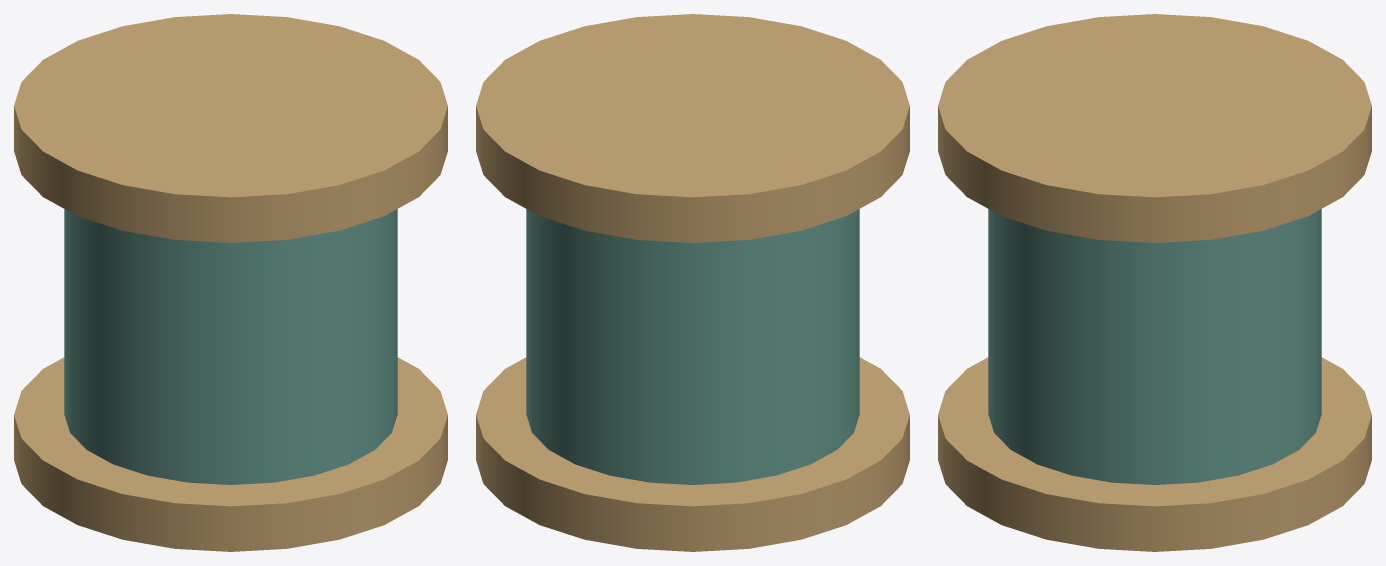
File: practice_spool.glb
3 views of the same model, side by side, from view 1: azimuth 30°, elevation 25°; view 2: azimuth 150°, elevation 25°; view 3: azimuth 270°, elevation 25° (orthographic).
Visible parts, largest first — view 1: practice_spool; view 2: practice_spool; view 3: practice_spool.
Boxes of the visible parts, x1,y1,x2,y2 form: practice_spool: [14, 14, 447, 551]; practice_spool: [476, 14, 909, 551]; practice_spool: [938, 14, 1371, 551].
Size of the model in its own units: 1.12 by 1.01 by 1.12.
